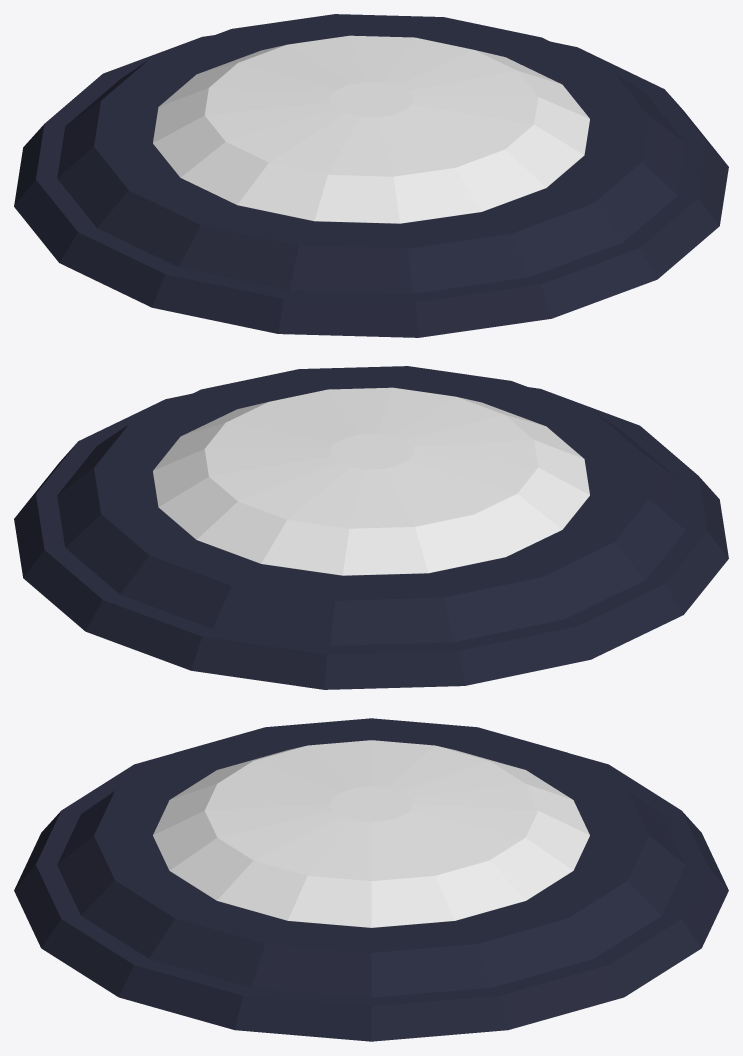
File: Pressure_Plate.fbx
3 renders of one model, top to bottom at view 1: azimuth 30°, elevation 25°; view 2: azimuth 150°, elevation 25°; view 3: azimuth 270°, elevation 25°, orthographic.
Visible parts, largest first — view 1: Cylinder.020, Cylinder.001; view 2: Cylinder.020, Cylinder.001; view 3: Cylinder.020, Cylinder.001.
Part boxes in pixels (x1,y1,x2,y2): Cylinder.020: [14, 14, 728, 337]; Cylinder.001: [153, 35, 589, 223]; Cylinder.020: [14, 366, 728, 689]; Cylinder.001: [153, 387, 589, 575]; Cylinder.020: [14, 718, 728, 1041]; Cylinder.001: [153, 740, 589, 927].
Bounding box in the file's own units: 184 × 24.55 × 184.
